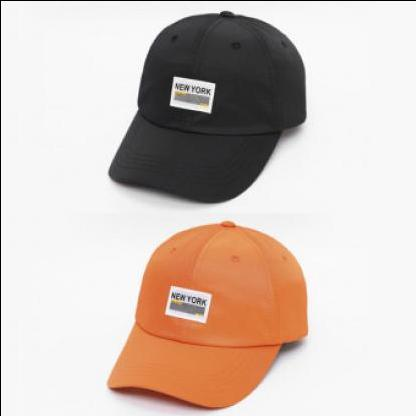cap: (99, 2, 312, 202), (99, 216, 315, 409)
